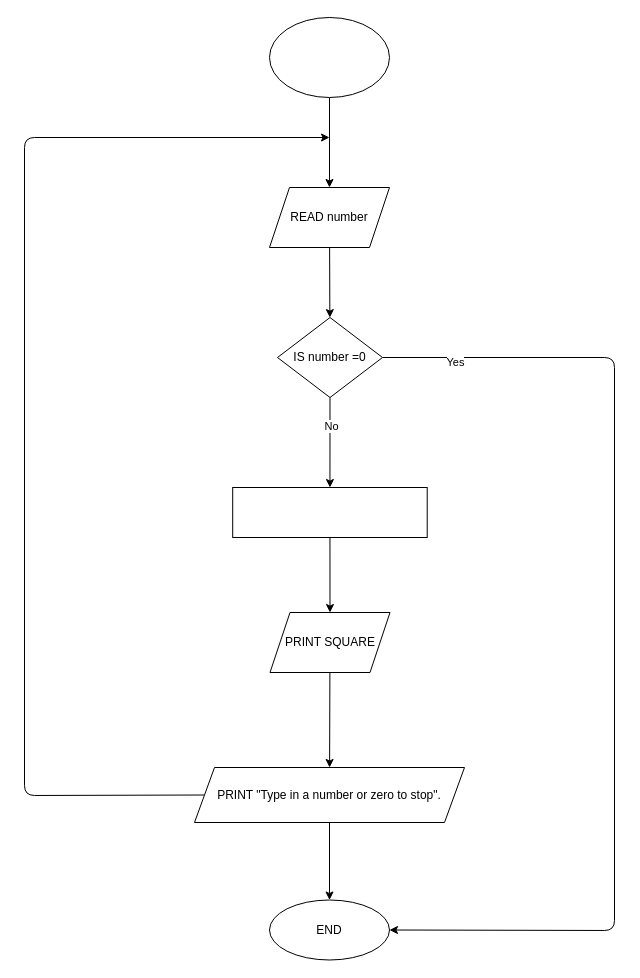
The diagram is 640 pixels wide and 978 high, and some of its shapes have lost their labels. The shapes that lost their labels are listed below. From the top down, each one's box as (x1, y1, x2, y2) in pixels, then its label:
(268, 16, 390, 98): START
(232, 486, 427, 538): SQUARE=number * number
